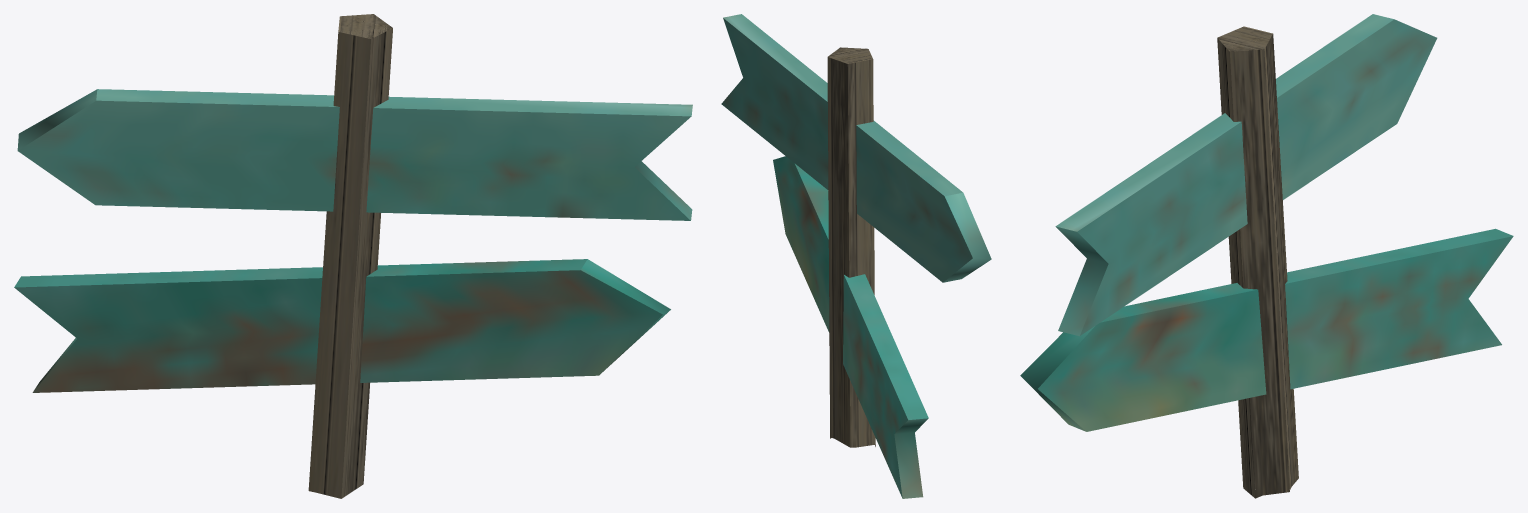
The model's file is menuPollution2.glb.
3 renders of one model, left to right at view 1: azimuth 30°, elevation 25°; view 2: azimuth 150°, elevation 25°; view 3: azimuth 270°, elevation 25°, orthographic. The views are drawn at different scales.
Visible parts, largest first — view 1: Base1_m_colored_woods_0, Base1_m_floorWood1_0; view 2: Base1_m_colored_woods_0, Base1_m_floorWood1_0; view 3: Base1_m_colored_woods_0, Base1_m_floorWood1_0.
Boxes of the visible parts, x1,y1,x2,y2 form: Base1_m_colored_woods_0: [14, 89, 692, 392]; Base1_m_floorWood1_0: [308, 14, 392, 498]; Base1_m_colored_woods_0: [721, 14, 991, 498]; Base1_m_floorWood1_0: [827, 47, 875, 447]; Base1_m_colored_woods_0: [1020, 14, 1513, 431]; Base1_m_floorWood1_0: [1217, 26, 1298, 498].
Bounding box in the file's own units: 3.84 × 3.41 × 3.31.
Materials: 2 (2 with a texture image).
